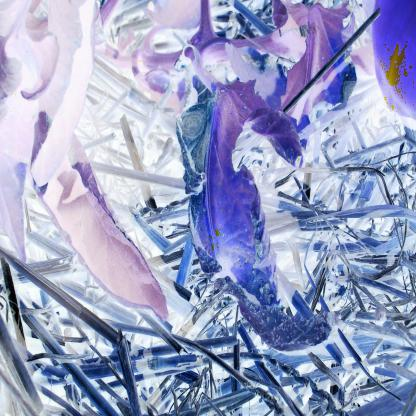Tomato Early blight leaf: (170, 63, 331, 350)
